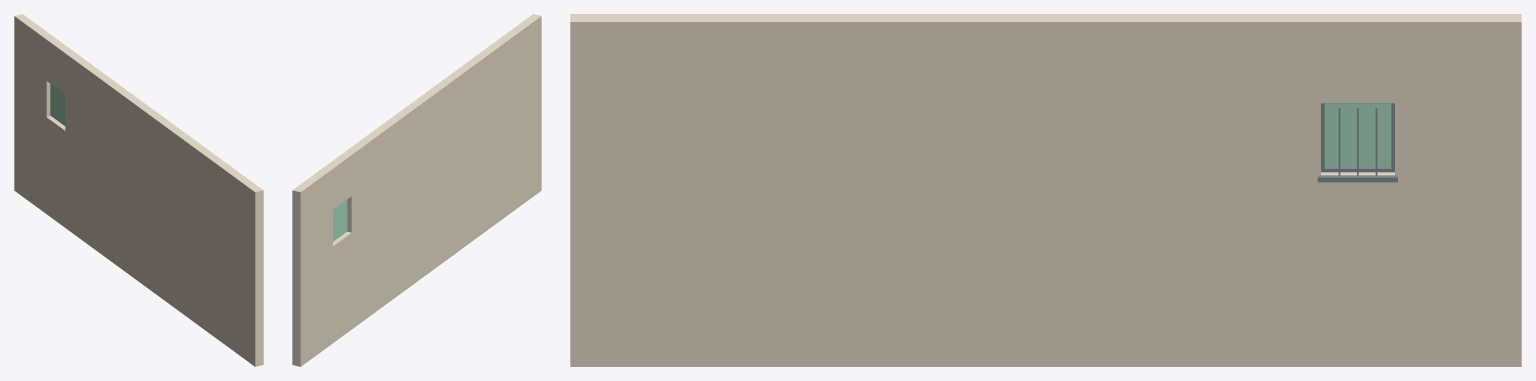
Rendered from tb_danchi_module_end_r_ground_01.fbx.
The picture shows the model from 3 angles, left to right: view 1: azimuth 30°, elevation 25°; view 2: azimuth 150°, elevation 25°; view 3: azimuth 270°, elevation 25°; orthographic projection. The views are drawn at different scales.
Parts seen in each view (by area): view 1: tb_danchi_module_end_r_ground_01; view 2: tb_danchi_module_end_r_ground_01; view 3: tb_danchi_module_end_r_ground_01.
Part boxes in pixels (x1,y1,x2,y2): tb_danchi_module_end_r_ground_01: (14,14,263,366); tb_danchi_module_end_r_ground_01: (292,14,541,366); tb_danchi_module_end_r_ground_01: (570,14,1521,366).
Size of what is drawn, in the model's own units: 0.24 by 3.6 by 9.
2 materials, 2 textured.
